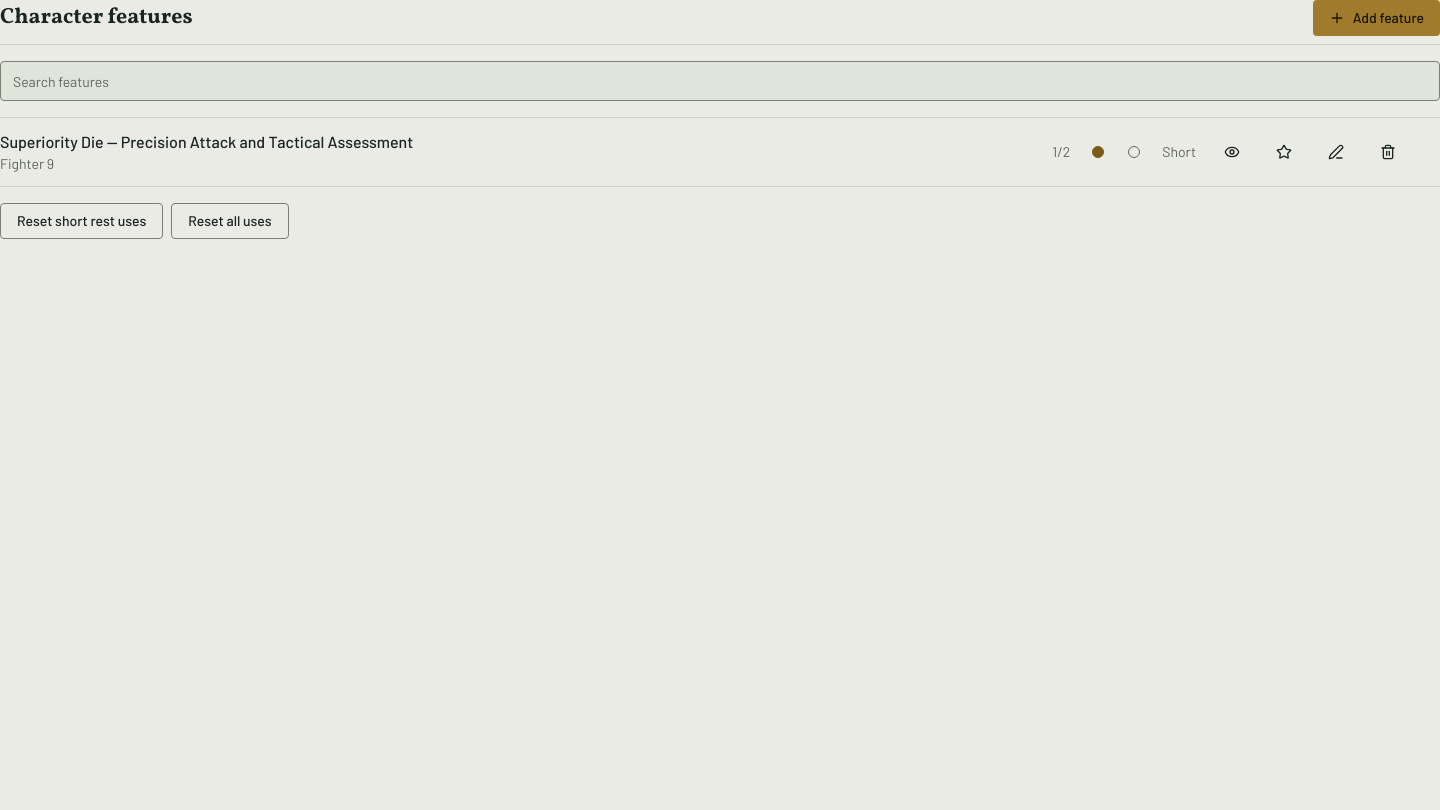
Test case: 03h1 Abilities list › keeps a flat row with source, full name and details
Check: the text "Superiority Die — Precision Attack and Tactical Assessment" is shown, box top-left (0, 132), bottom-right (413, 151)
Check: the text "Fighter 9" is shown, box top-left (0, 155), bottom-right (54, 172)
Step 1. Click the button named "Open Superiority Die — Precision Attack and Tactical Assessm" → (1232, 152), box top-left (1208, 134), bottom-right (1256, 170)
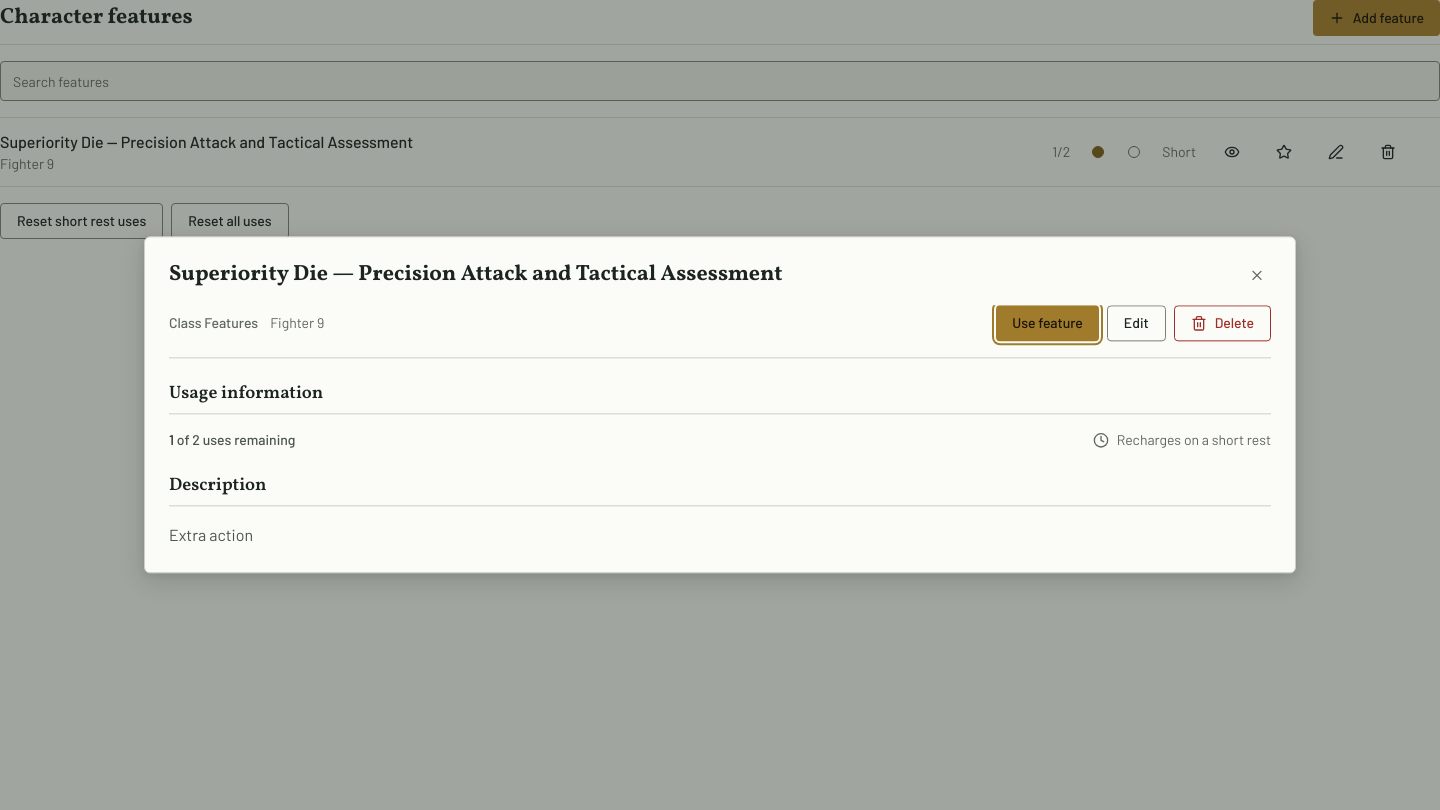
Check: the dialog shows "Superiority Die — Precision Attack and Tactical Assessment", box top-left (169, 259), bottom-right (783, 290)
